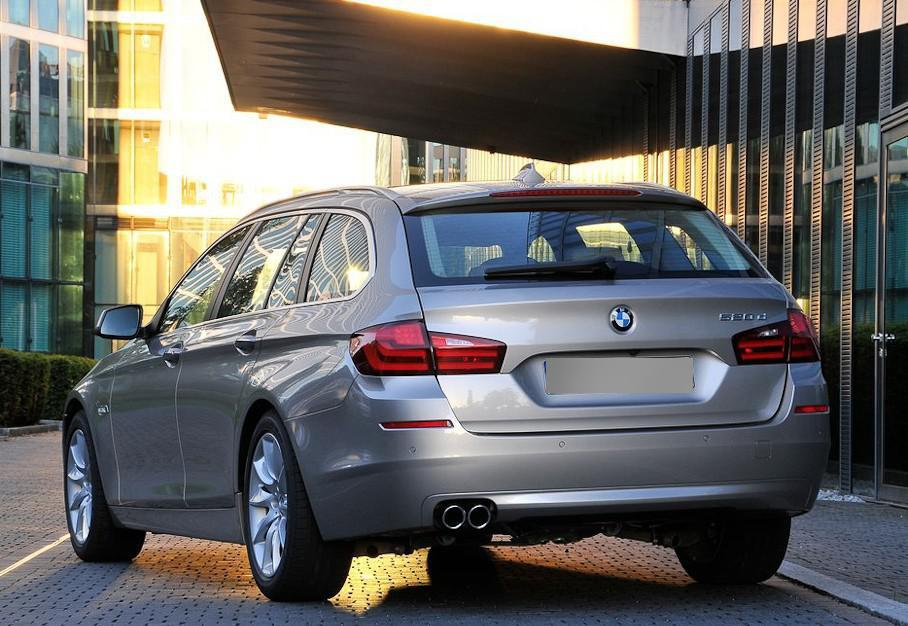Wagon: (60, 160, 833, 603)
